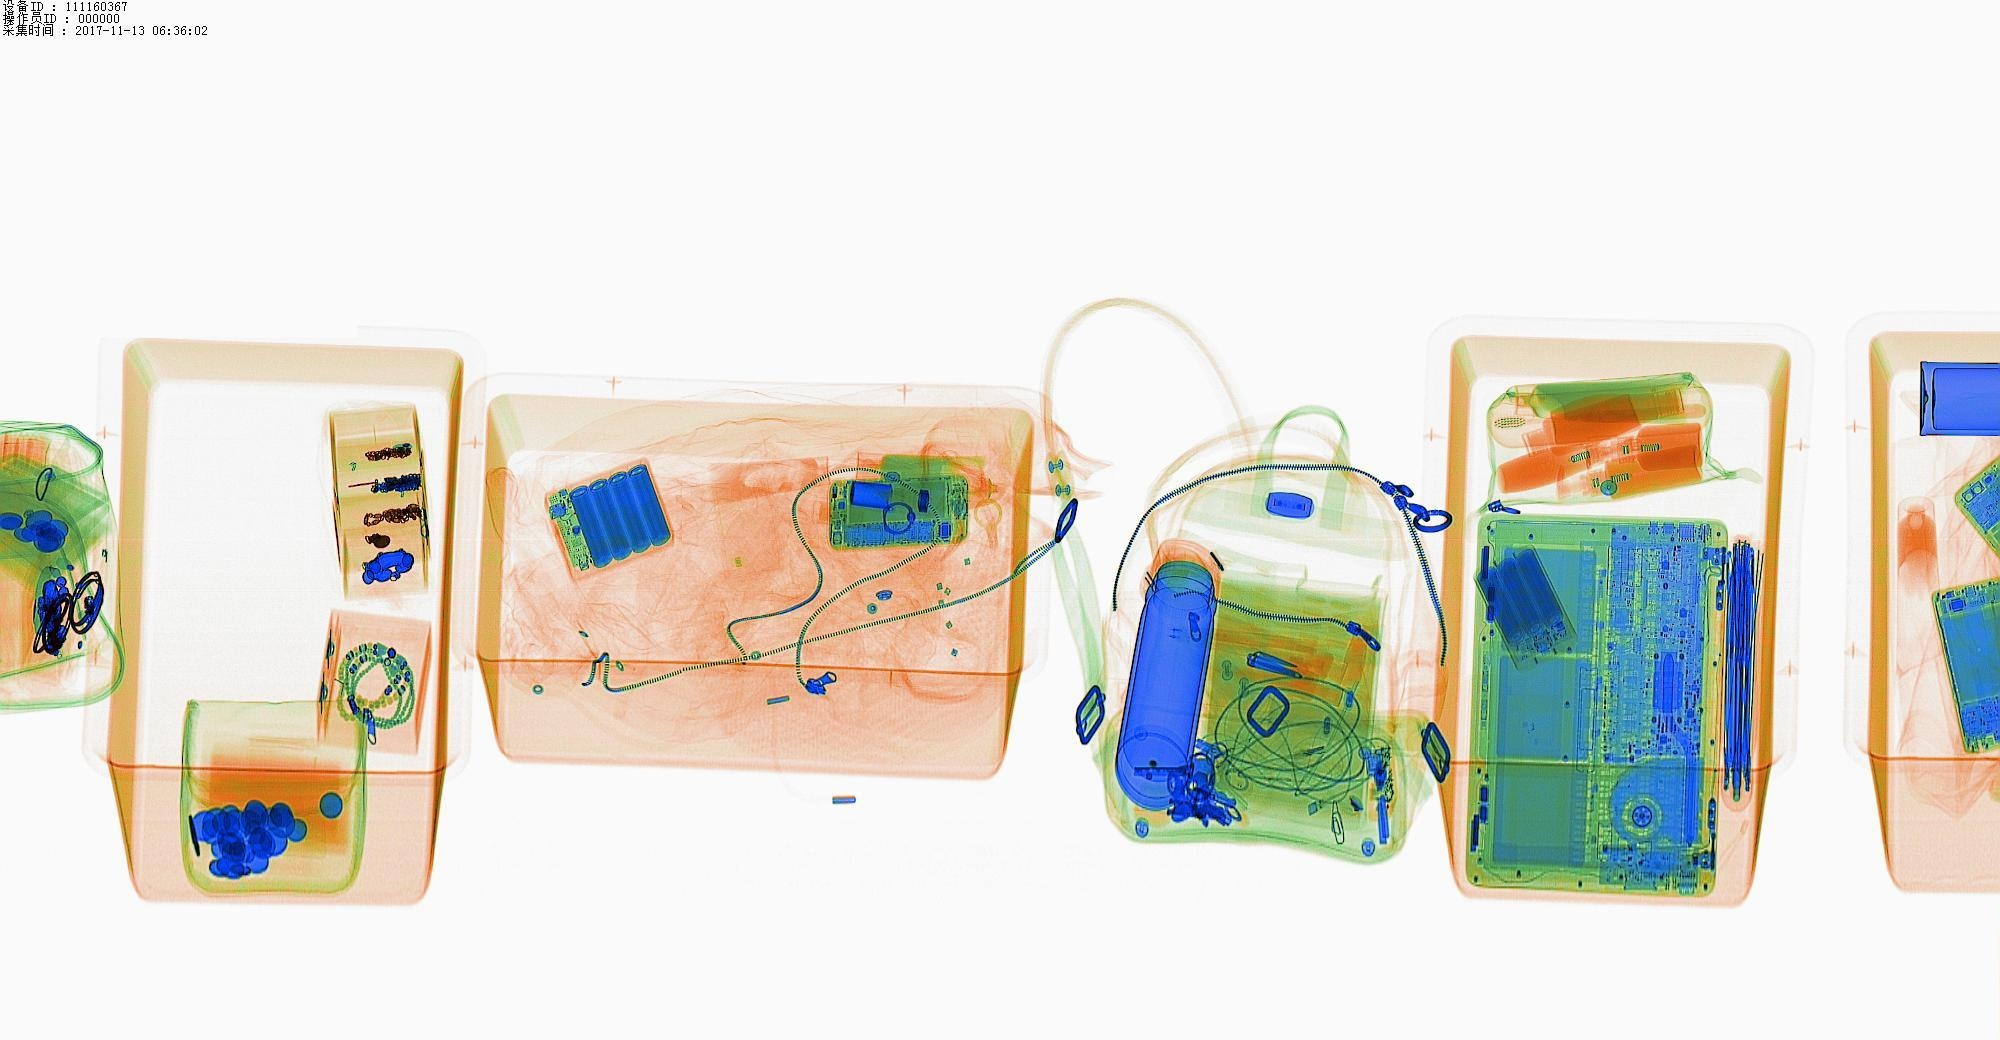core: (1474, 549, 1563, 666), (544, 479, 671, 560)
